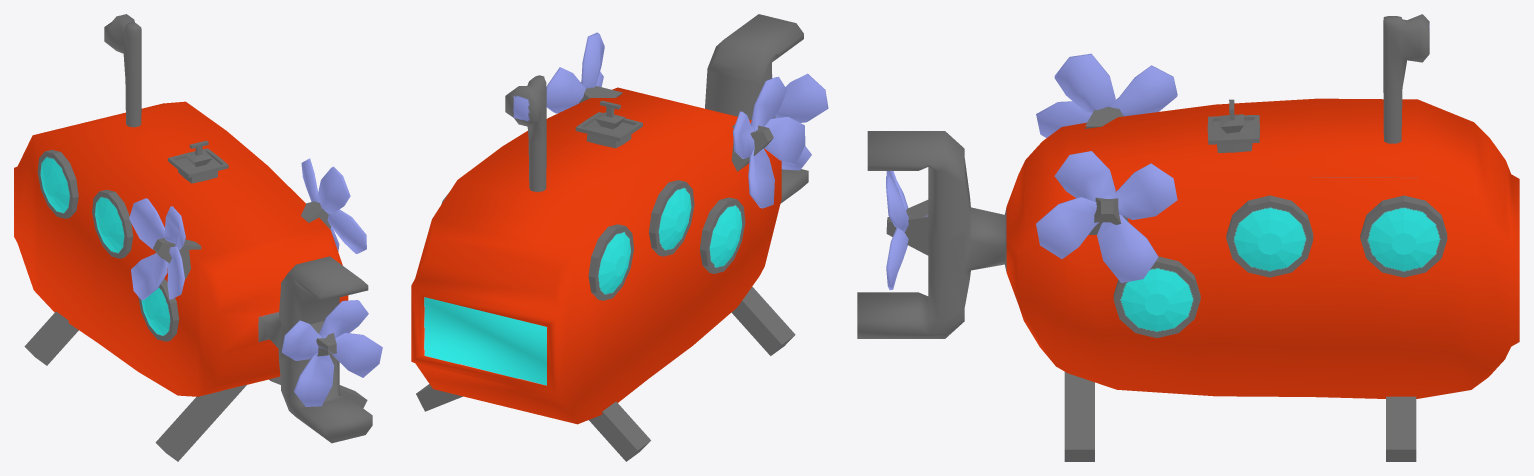
Rendered from red-submarine.glb.
3 renders of one model, left to right at view 1: azimuth 30°, elevation 25°; view 2: azimuth 150°, elevation 25°; view 3: azimuth 270°, elevation 25°, orthographic. The views are drawn at different scales.
Parts seen in each view (by area): view 1: Submarino; view 2: Submarino; view 3: Submarino.
Boxes of the visible parts, left/top/right/bottom form: Submarino: left=14, top=14, right=382, bottom=461; Submarino: left=411, top=14, right=828, bottom=461; Submarino: left=857, top=14, right=1519, bottom=461.
Size of the model in its own units: 3.11 by 4.66 by 7.15.
Materials: 1 (1 with a texture image).
